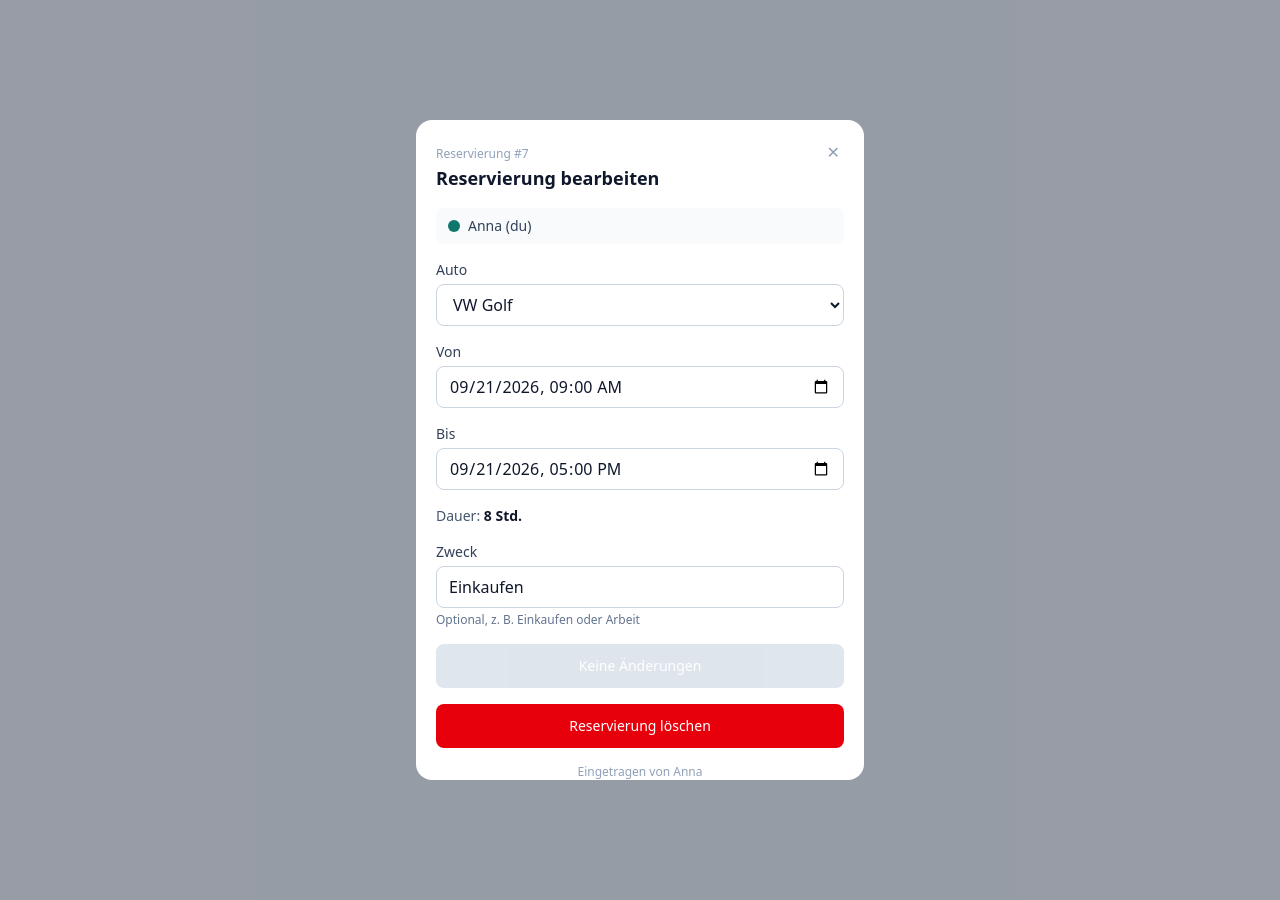
Test: editing your own reservation › refuses an end that is not after the start
The width and height of the screenshot is (1280, 900).
Replace the text in the field labelled "Bis" with "2026-09-21T08:00" at (640, 469), box top-left (436, 448), bottom-right (844, 490)
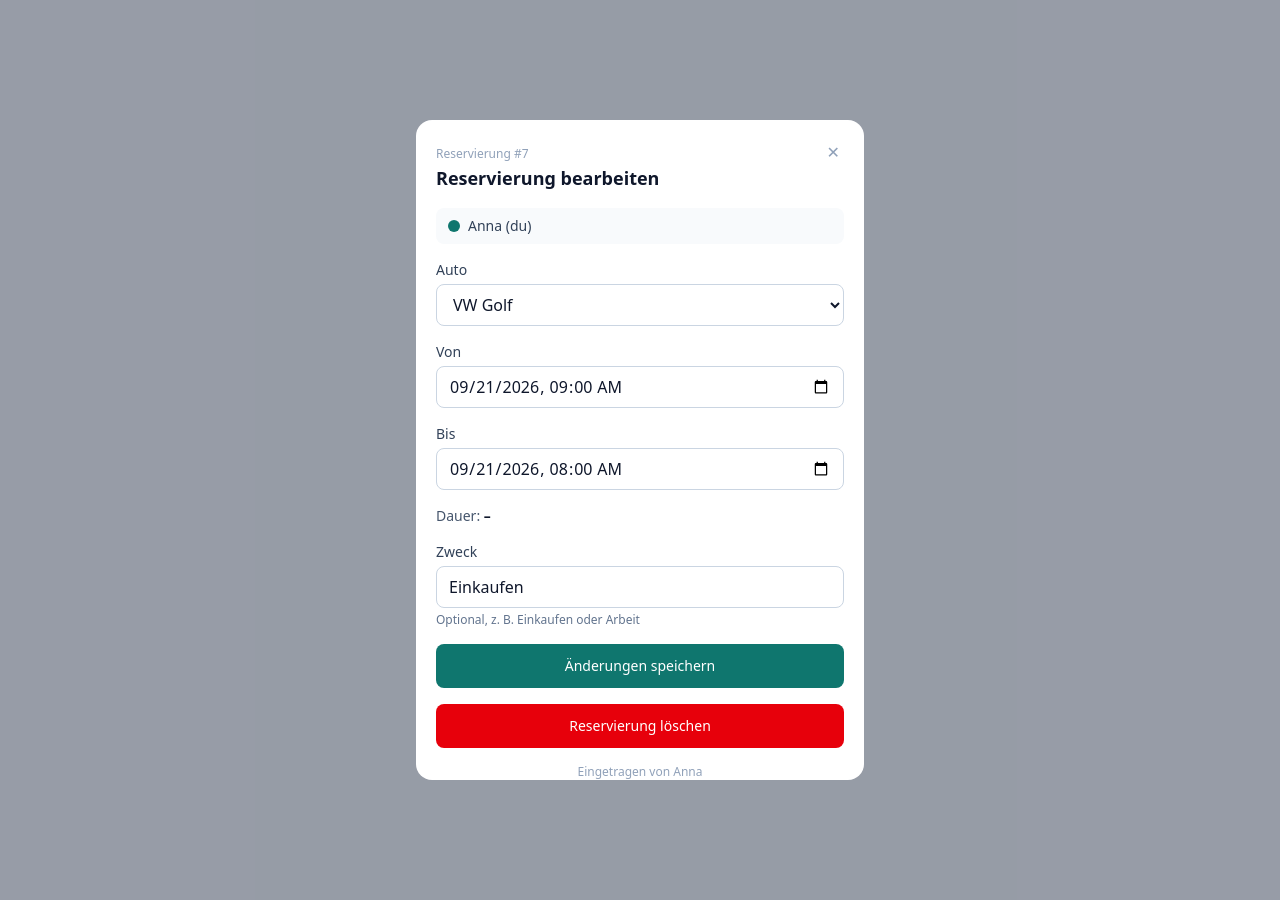
Click the button "Änderungen speichern" at (640, 666), box top-left (436, 644), bottom-right (844, 688)
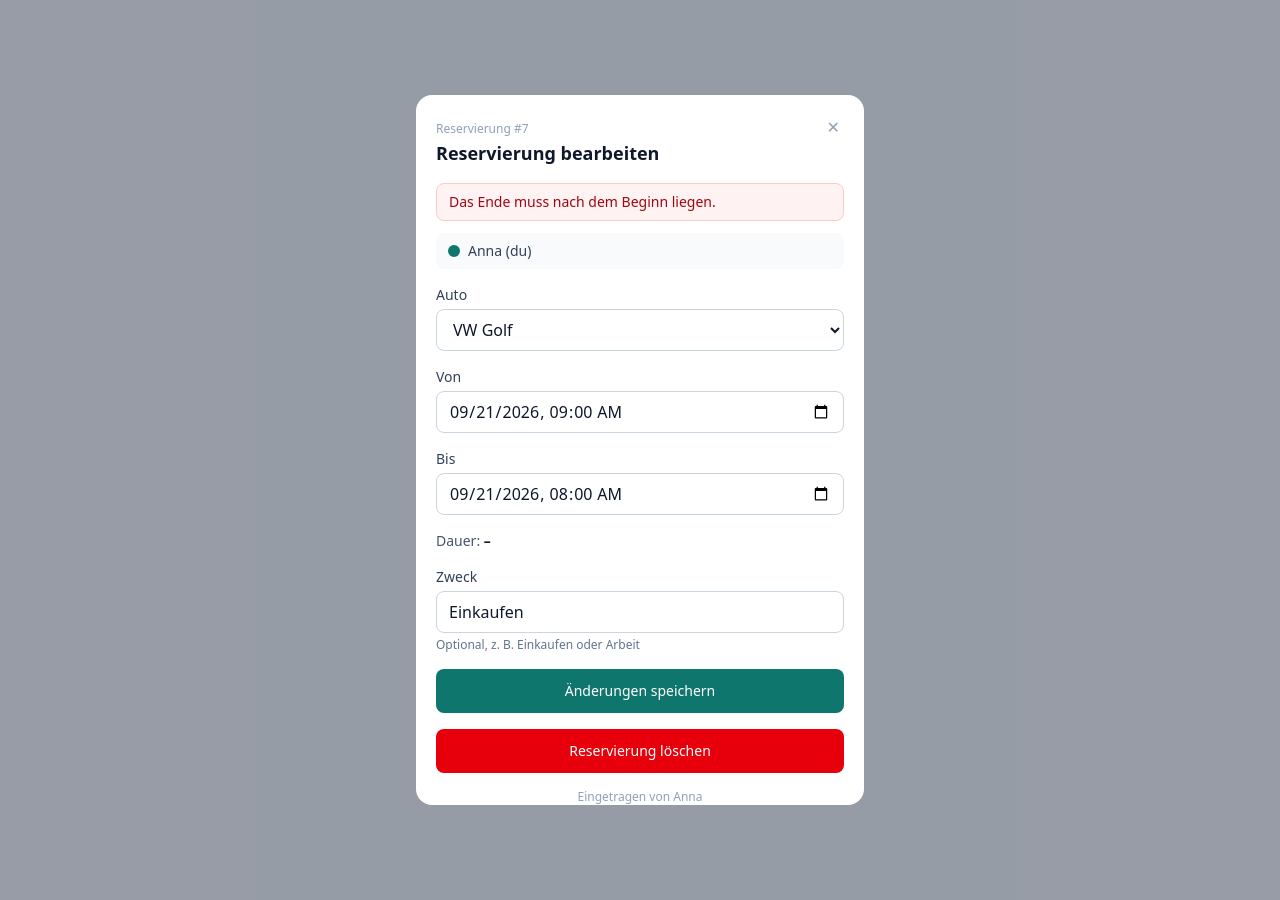
Check: the text "Das Ende muss nach dem Beginn liegen." is shown, box top-left (436, 183), bottom-right (844, 221)
